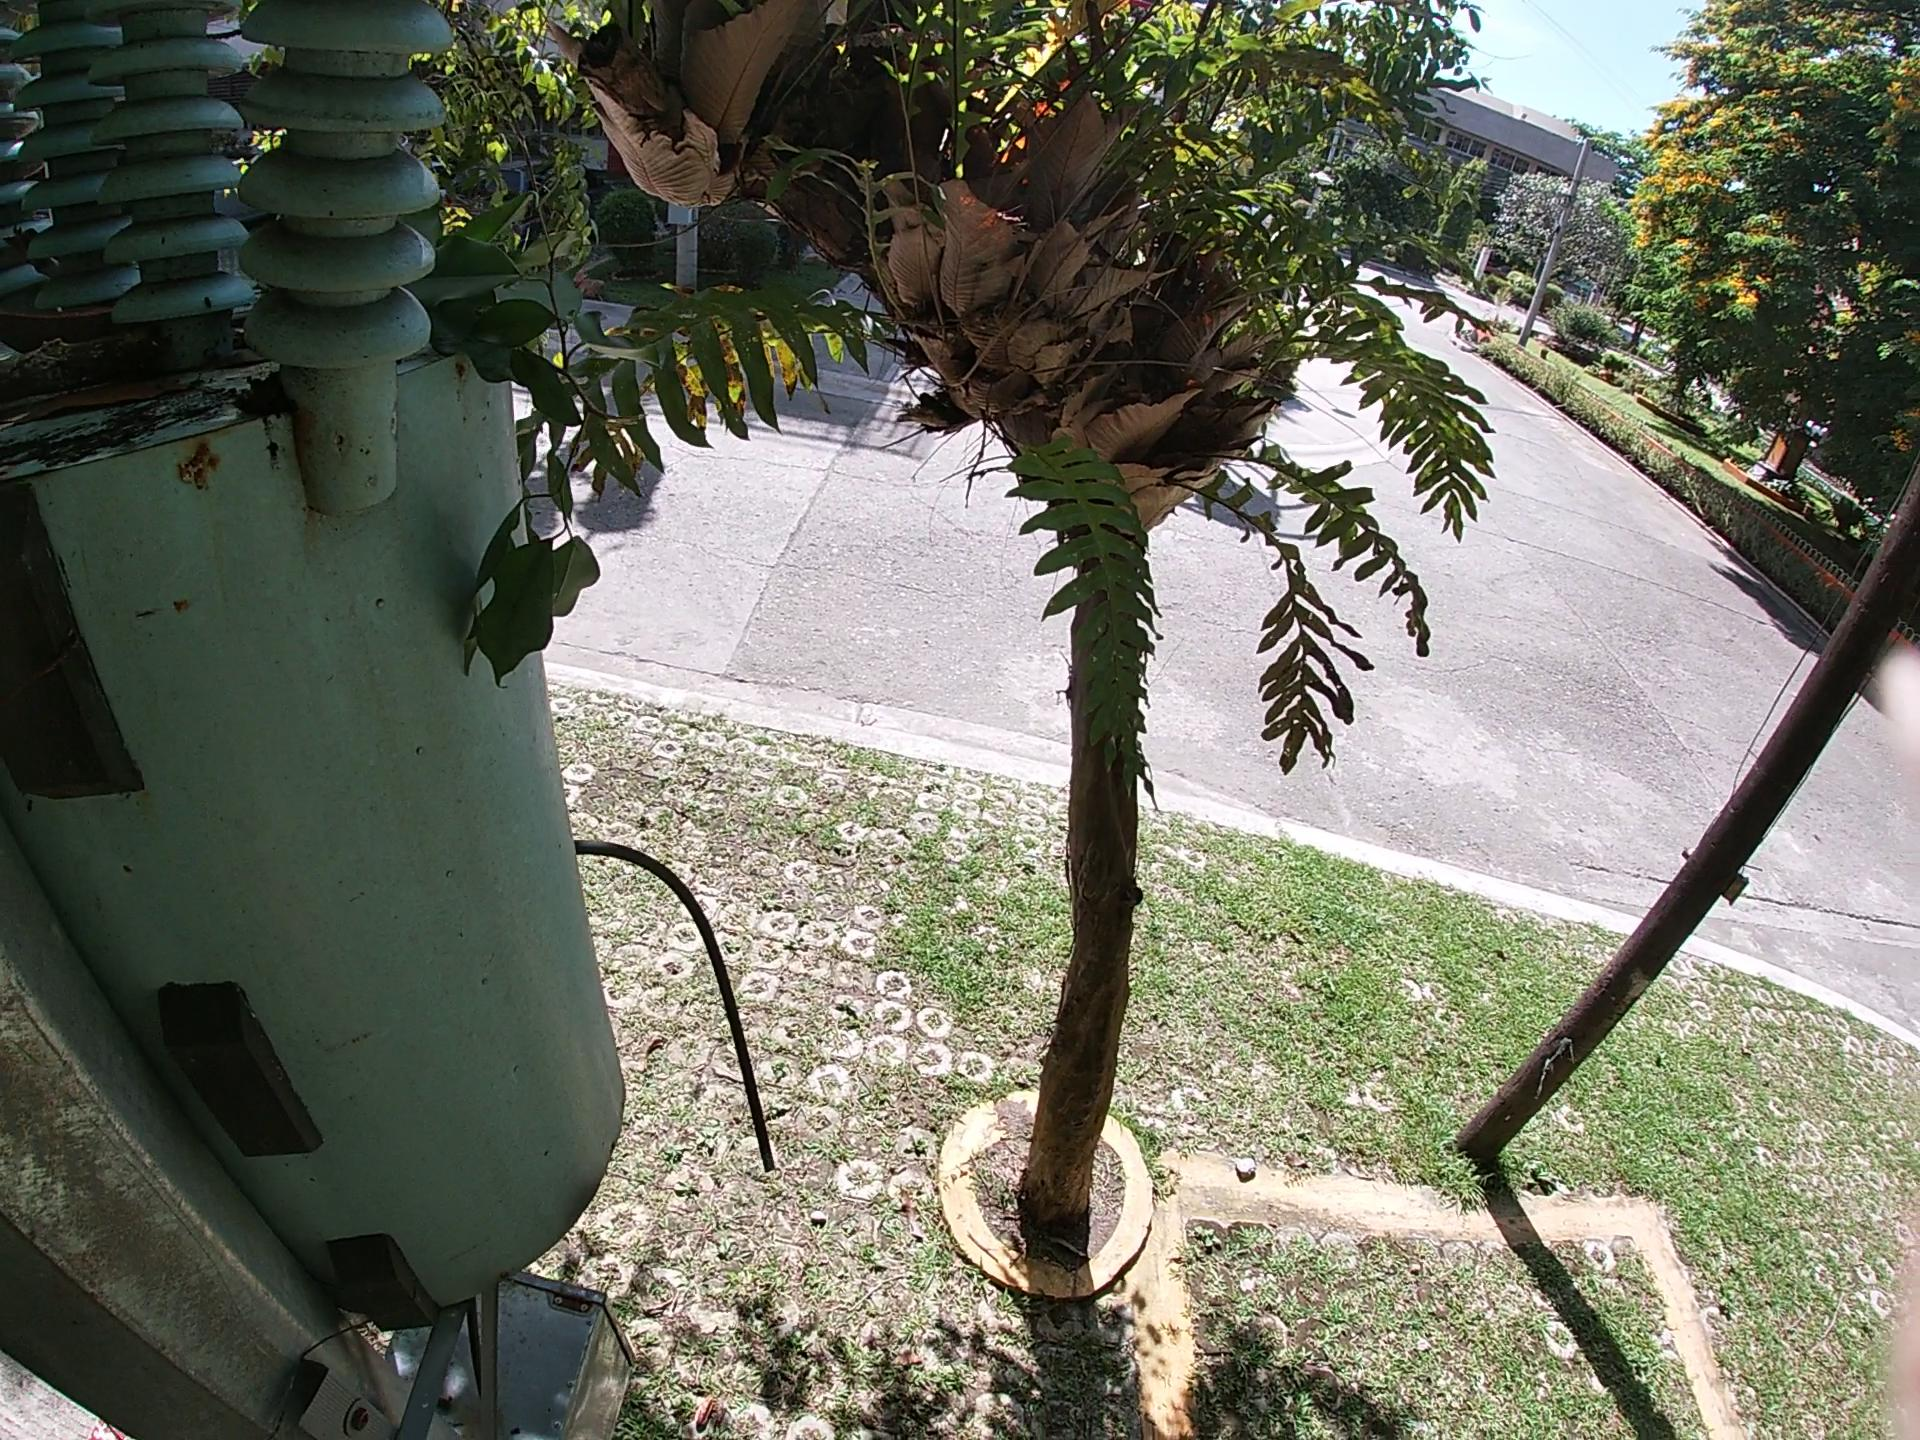branch with leaves: (401, 172, 630, 735)
leaf: (14, 380, 187, 408)
mahogany fruit: (2, 290, 127, 327)
tree branch: (9, 334, 166, 365)
